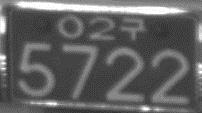0: (56, 13, 84, 39)
2: (151, 47, 191, 105), (106, 45, 145, 103), (87, 15, 116, 42)
5: (16, 43, 55, 98)
7: (60, 43, 99, 100)
구: (120, 16, 146, 40)
